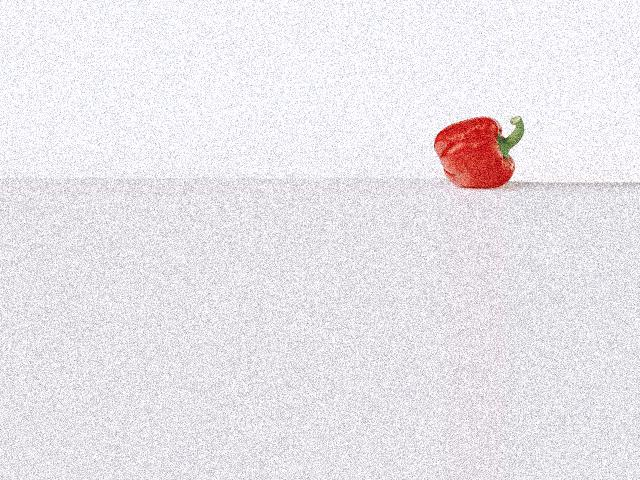bell_pepper: (429, 112, 532, 191)
